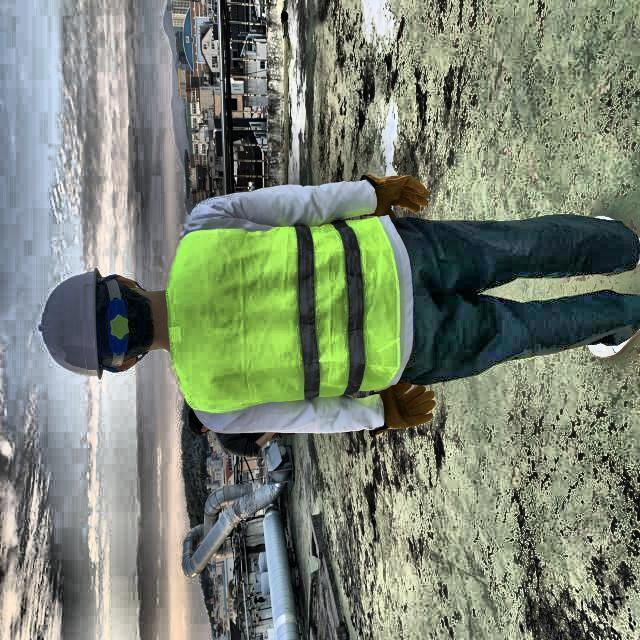gloved: (374, 380, 443, 444), (368, 164, 430, 220)
